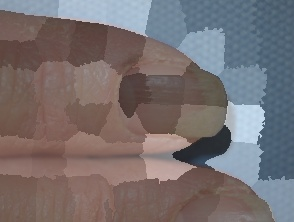Nail_psoriasis: (167, 62, 233, 147)
